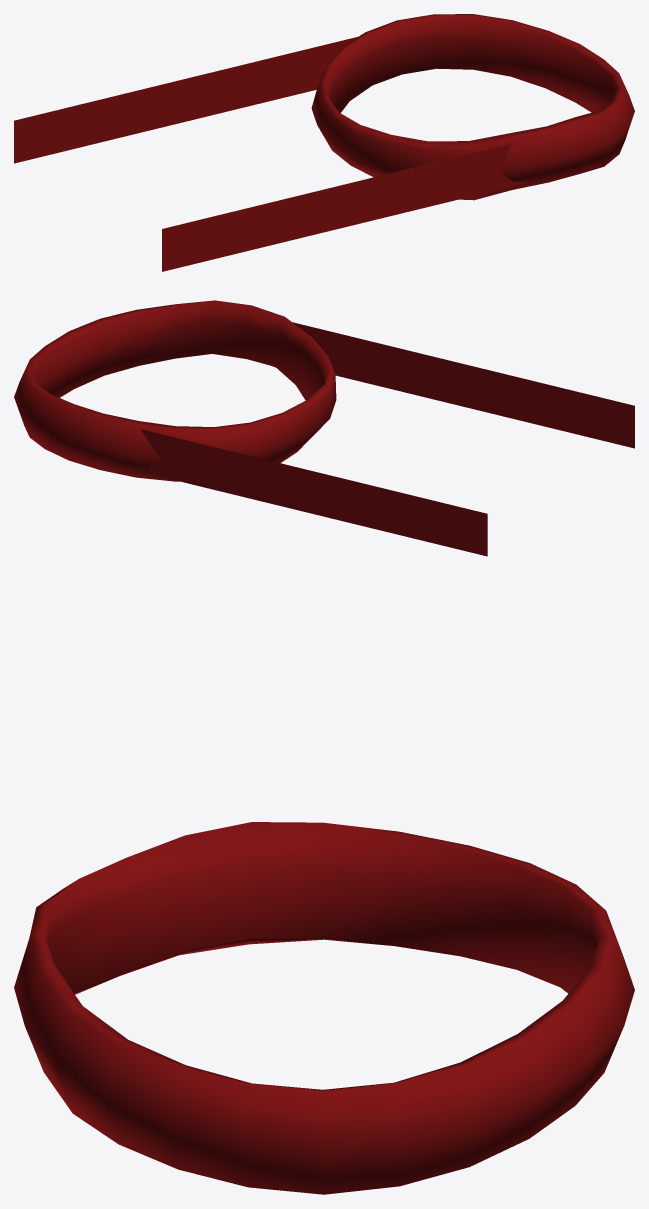
Rendered from Scarf.fbx.
3 renders of one model, top to bottom at view 1: azimuth 30°, elevation 25°; view 2: azimuth 150°, elevation 25°; view 3: azimuth 270°, elevation 25°, orthographic. The views are drawn at different scales.
Parts seen in each view (by area): view 1: Plane; view 2: Plane; view 3: Plane.
Part boxes in pixels (x1=…): Plane: x1=14, y1=14, x2=634, y2=271; Plane: x1=14, y1=300, x2=634, y2=556; Plane: x1=14, y1=822, x2=634, y2=1194.
Size of the model in its own units: 20.04 by 10.67 by 2.7.
